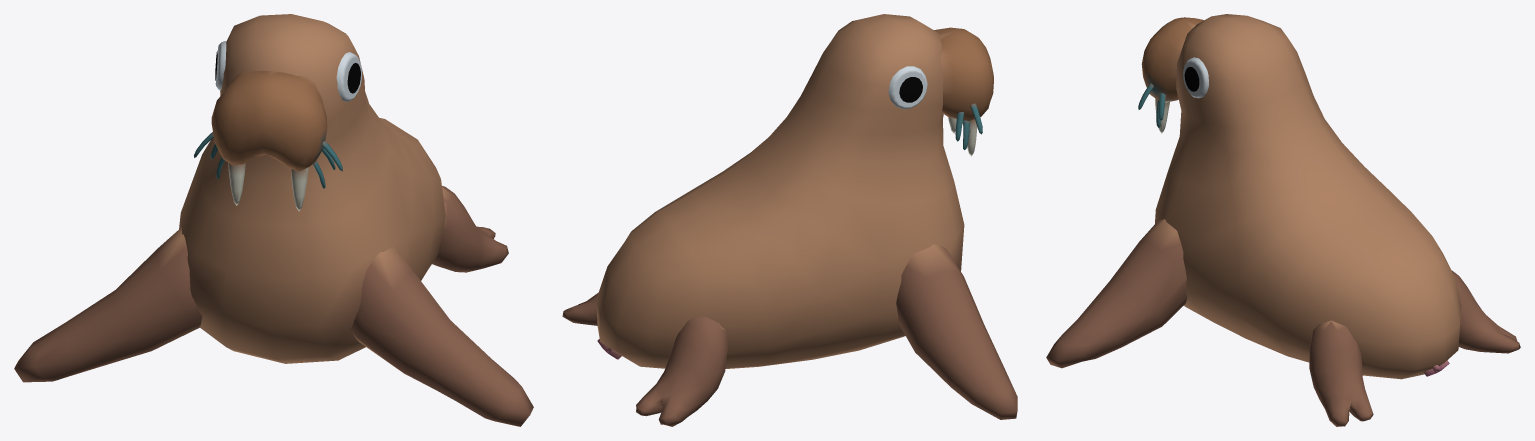
File: Walrus.glb
3 renders of one model, left to right at view 1: azimuth 30°, elevation 25°; view 2: azimuth 150°, elevation 25°; view 3: azimuth 270°, elevation 25°, orthographic. The views are drawn at different scales.
Parts seen in each view (by area): view 1: 172; view 2: 172; view 3: 172.
Part boxes in pixels (x1,y1,x2,y2): 172: [14, 14, 533, 426]; 172: [562, 14, 1017, 426]; 172: [1046, 14, 1520, 426].
Size of the model in its own units: 1.53 by 1.05 by 1.53.
